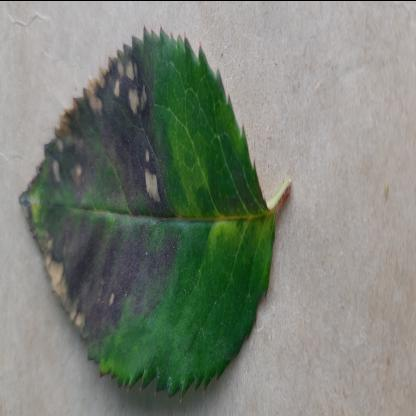powdery-mildew: (20, 19, 276, 393)
